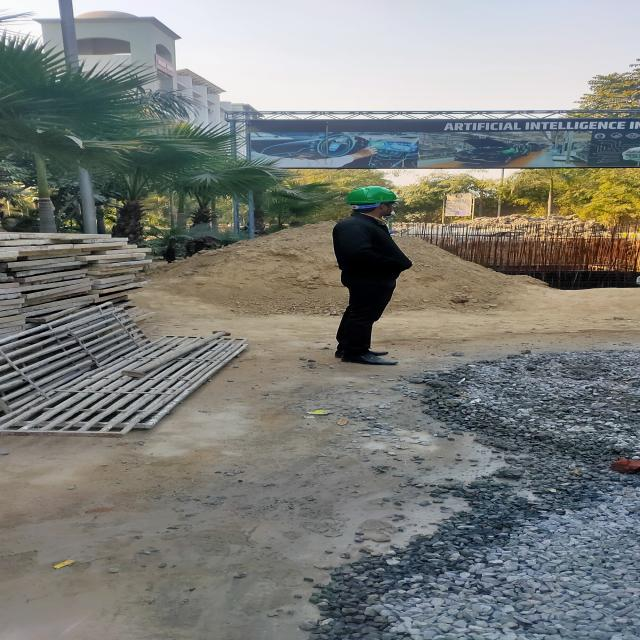no jacket: (331, 186, 412, 364)
